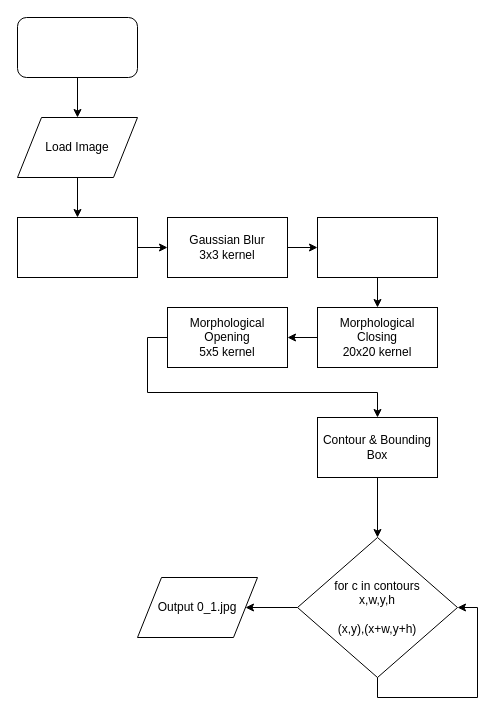
Some shapes in this 503 by 723 pixel diagram are drawn without their labels. Here are the shapes that lost their labels. From the top down, the centre of each, then its label:
[77,47]: Start
[77,247]: Grayscale
[377,247]: Auto Canny Edge Detection Sigma = 0.33
